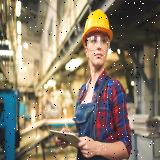Helmet: (82, 8, 115, 49)
